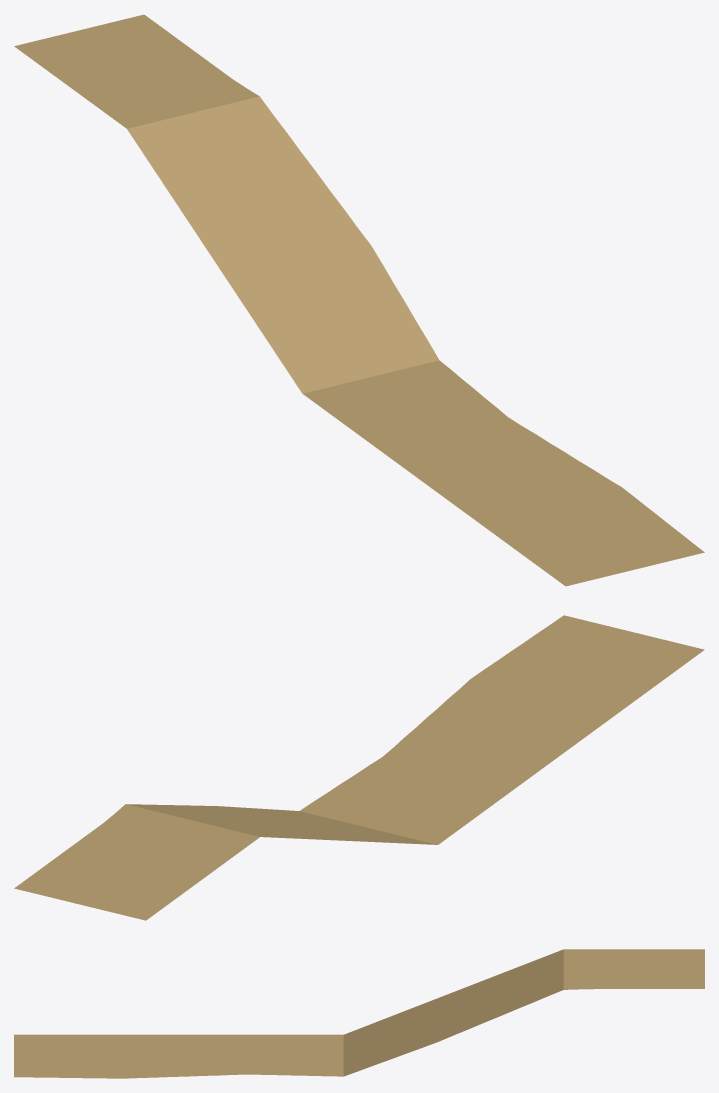
The model's file is mineroad.glb.
3 views of the same model, one above another, from view 1: azimuth 30°, elevation 25°; view 2: azimuth 150°, elevation 25°; view 3: azimuth 270°, elevation 25° (orthographic). The views are drawn at different scales.
Parts seen in each view (by area): view 1: mineroad; view 2: mineroad; view 3: mineroad.
Part boxes in pixels (box(x1,y1,x2,y2)): mineroad: box(14, 14, 704, 586); mineroad: box(14, 615, 704, 920); mineroad: box(14, 949, 704, 1078).
Bounding box in the file's own units: 6.62 × 6 × 44.
